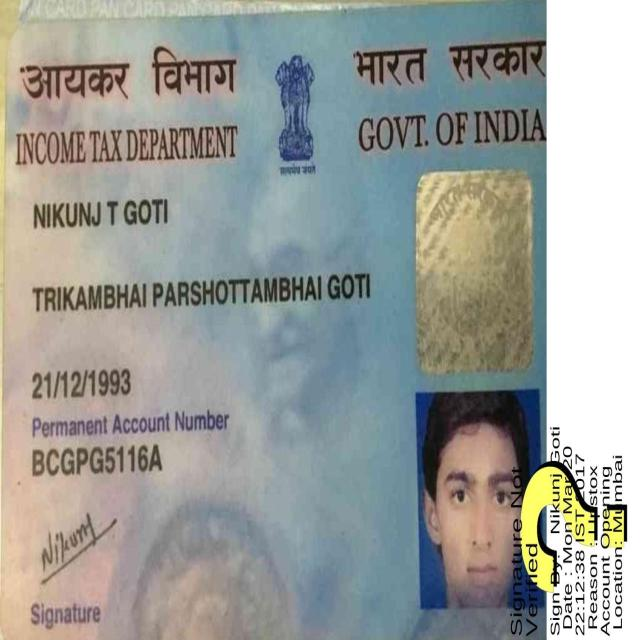pan_card: (5, 6, 545, 640)
